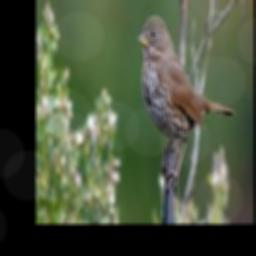Sparrow: (138, 14, 235, 198)
